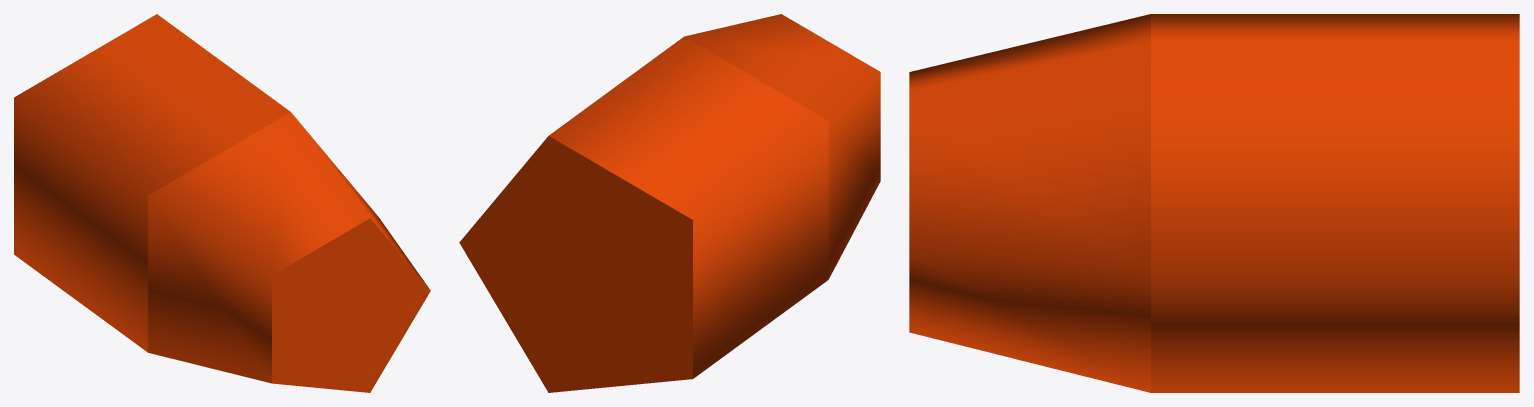
The model's file is pro_speed.fbx.
3 renders of one model, left to right at view 1: azimuth 30°, elevation 25°; view 2: azimuth 150°, elevation 25°; view 3: azimuth 270°, elevation 25°, orthographic. The views are drawn at different scales.
Visible parts, largest first — view 1: pro_speed; view 2: pro_speed; view 3: pro_speed.
Boxes of the visible parts, x1,y1,x2,y2 form: pro_speed: (14, 14, 430, 392); pro_speed: (459, 14, 880, 392); pro_speed: (909, 14, 1519, 392).
Size of the model in its own units: 7.74 by 8.14 by 12.85.
